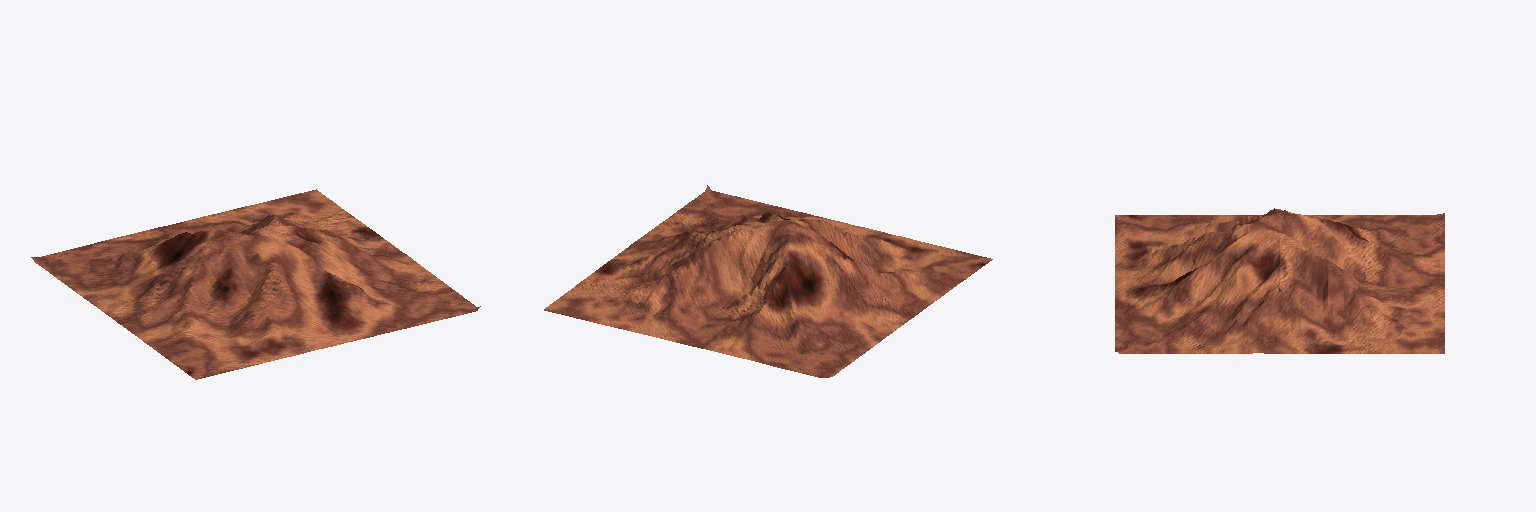
3 renders of one model, left to right at view 1: azimuth 30°, elevation 25°; view 2: azimuth 150°, elevation 25°; view 3: azimuth 270°, elevation 25°, orthographic.
Parts seen in each view (by area): view 1: terrain; view 2: terrain; view 3: terrain.
Part boxes in pixels (bbox=[...]): terrain: bbox=[31, 189, 480, 379]; terrain: bbox=[544, 185, 992, 377]; terrain: bbox=[1115, 208, 1444, 353].
Bounding box in the file's own units: 96.88 × 18.59 × 96.88.
Materials: 1 (1 with a texture image).